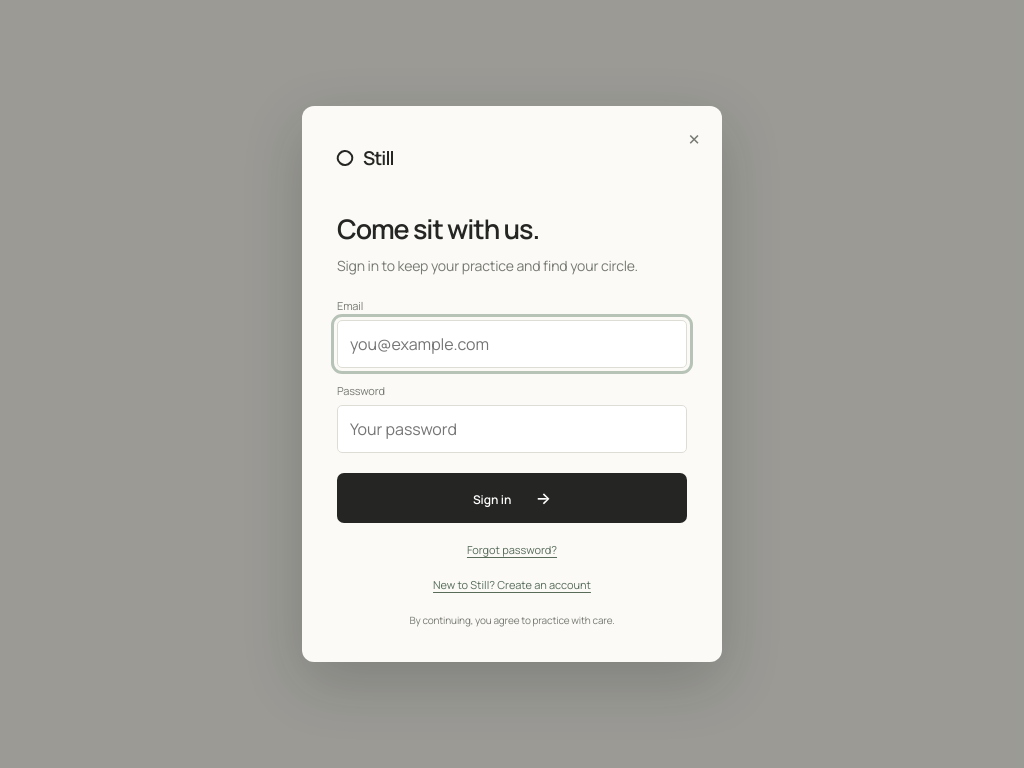
Test: offers forgot password, displays generic confirmation, and returns to sign in
Step 1. Click the button "Forgot password?" → coordinates (512, 550), box [337,541,687,558]
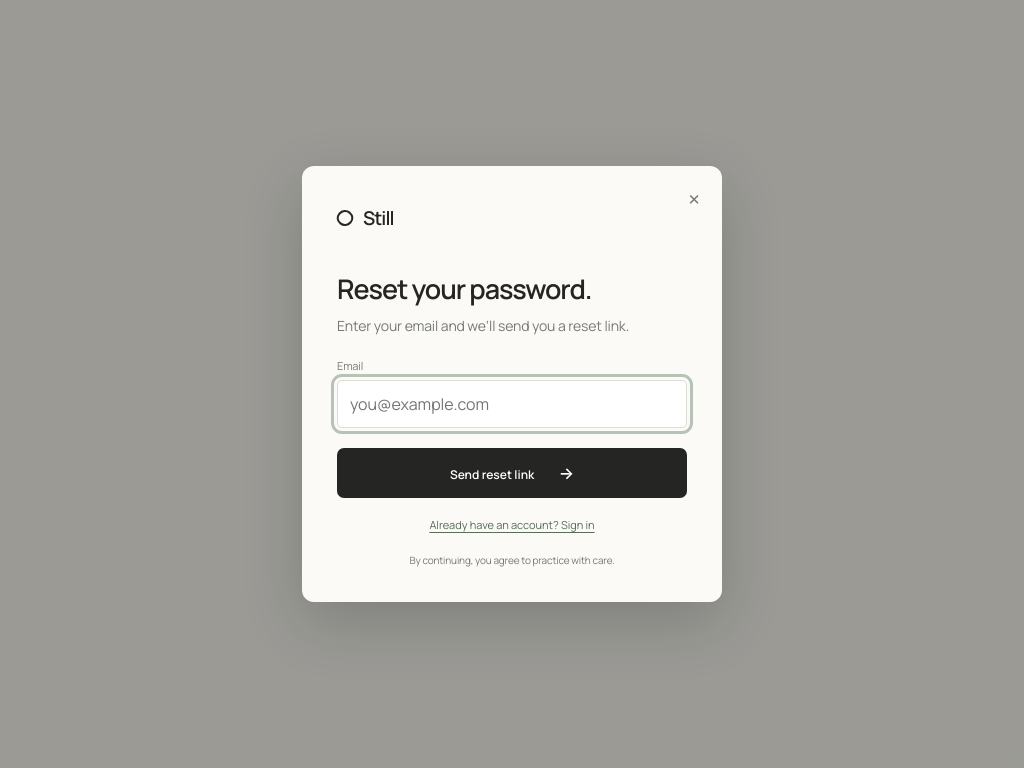
Step 2. Type "person@example.com" into the field labelled "Email" → coordinates (512, 404), box [337,380,687,428]
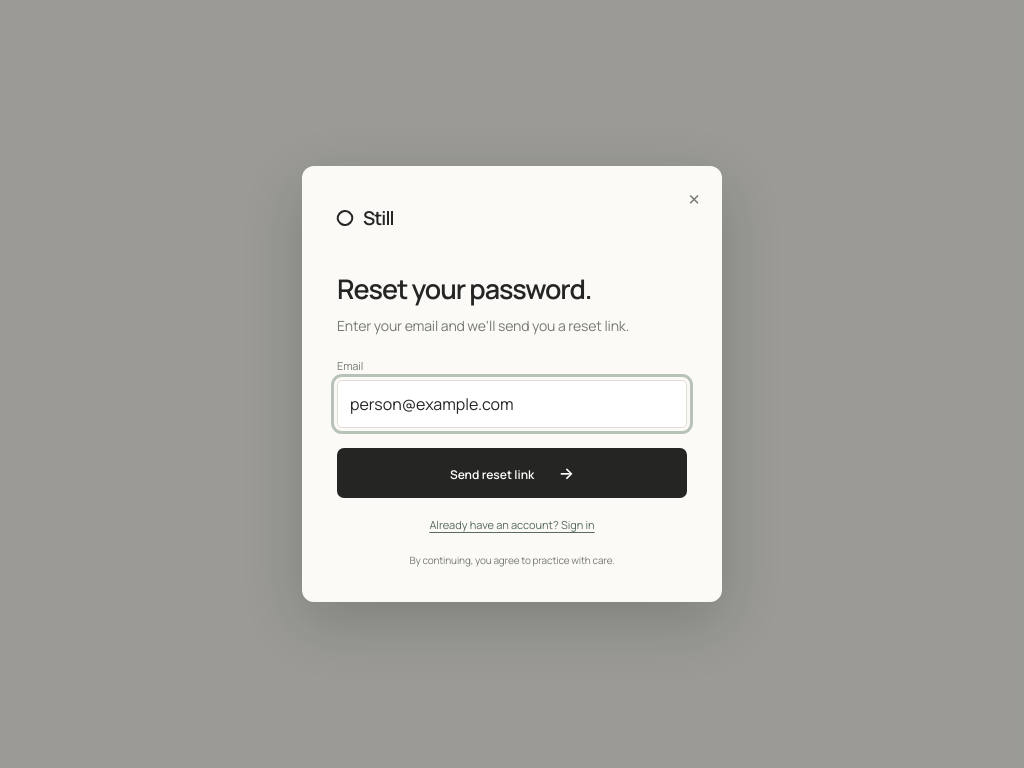
Step 3. Click the button "Send reset link →" → coordinates (512, 473), box [337,448,687,498]
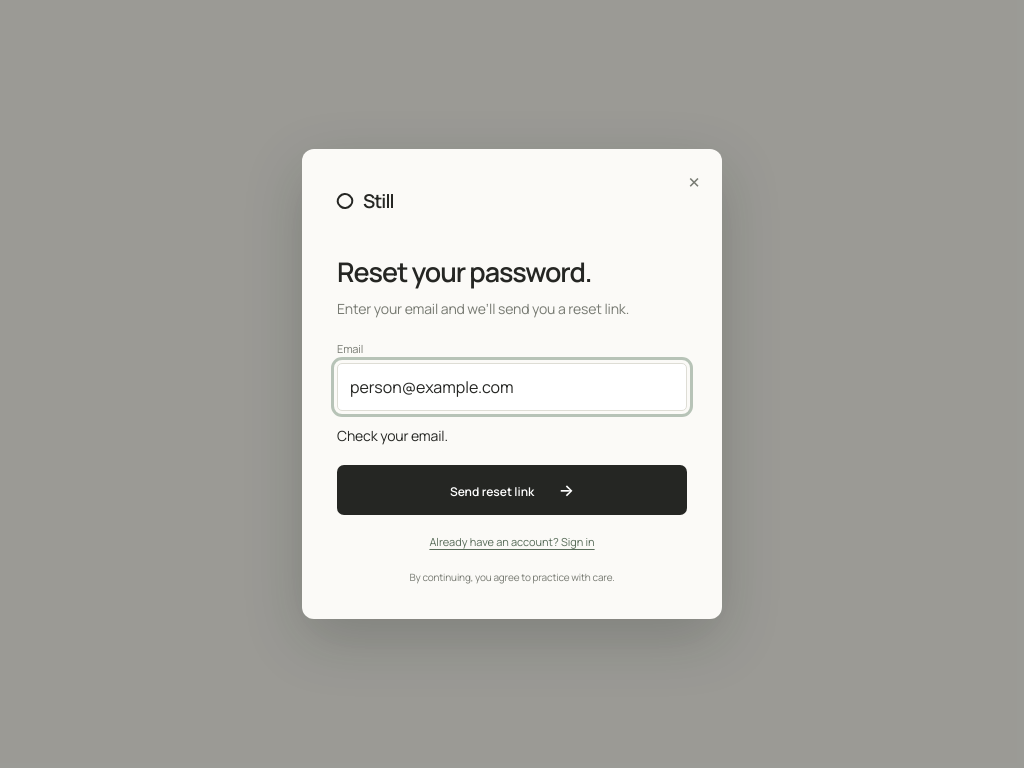
Now the text "Check your email." is shown, box [337,426,448,445]
Step 4. Click the button "Send reset link →" → coordinates (512, 490), box [337,465,687,515]
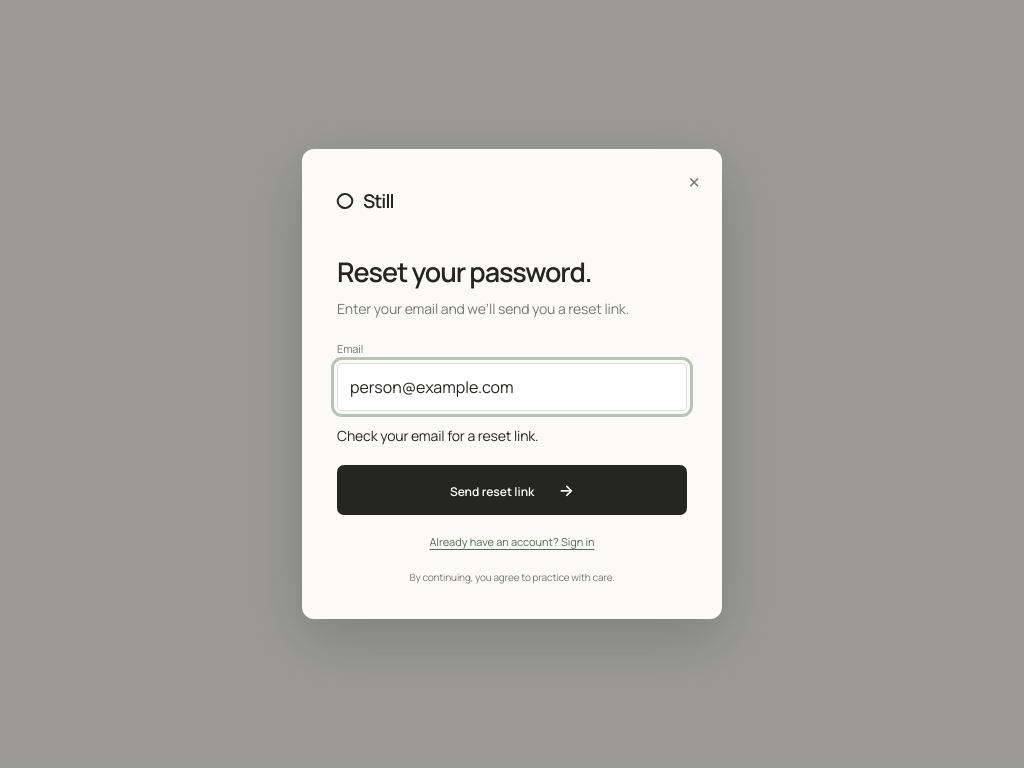
Now the text "Check your email for a reset link." is shown, box [337,426,538,445]
Step 5. Click the button "Send reset link →" → coordinates (512, 490), box [337,465,687,515]
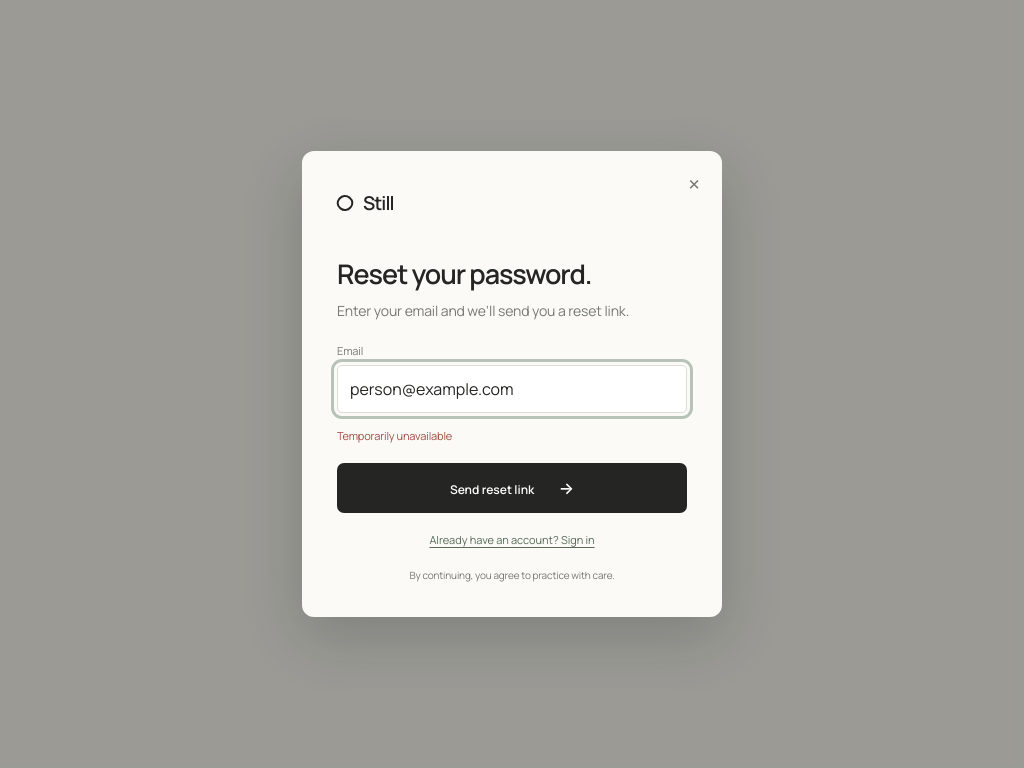
Now the text "Temporarily unavailable" is shown, box [337,428,452,443]
Step 6. Click the button "Already have an account? Sign in" → coordinates (512, 540), box [337,531,687,548]
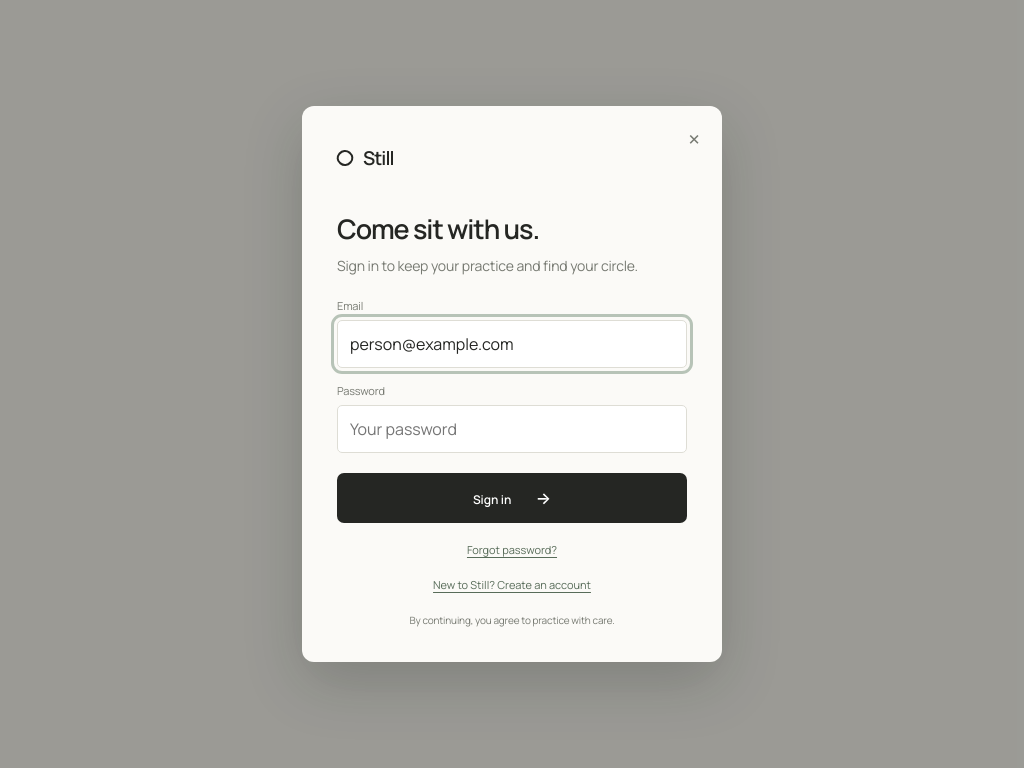
Now the password field labelled "Password" is shown, box [337,405,687,453]
